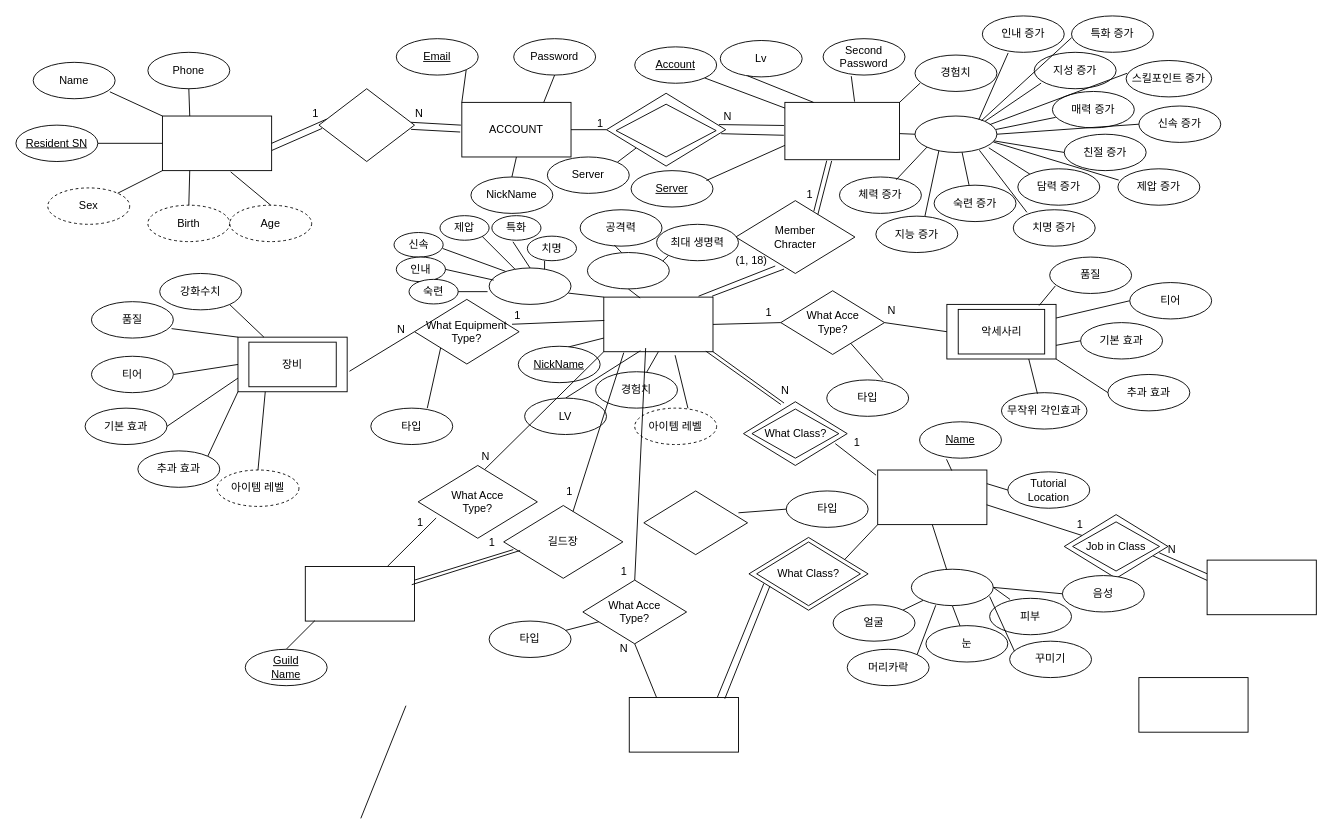
The diagram is 1332 pixels wide and 835 high, and some of its shapes have lost their labels. The shapes that lost their labels are listed below. From the top down, each one's centre as x and y in pixels, then its label:
At [217,143]: "PERSONAL".
At [366,125]: "LOGIN".
At [665,130]: "Where is Server".
At [842,130]: "EXPEDITION (원정대 - 서버와 계정이 같으면 공유되는 자원이 존재)".
At [955,133]: "증가 스탯".
At [529,285]: "전투 특성".
At [627,270]: "기본 특성".
At [658,324]: "CHRACTER".
At [932,497]: "CLASS".
At [695,522]: "What Avatar Type?".
At [359,593]: "길드".
At [951,587]: "외형".
At [1261,587]: "직업".
At [683,724]: "Avatar".
At [1193,704]: "스킬".
